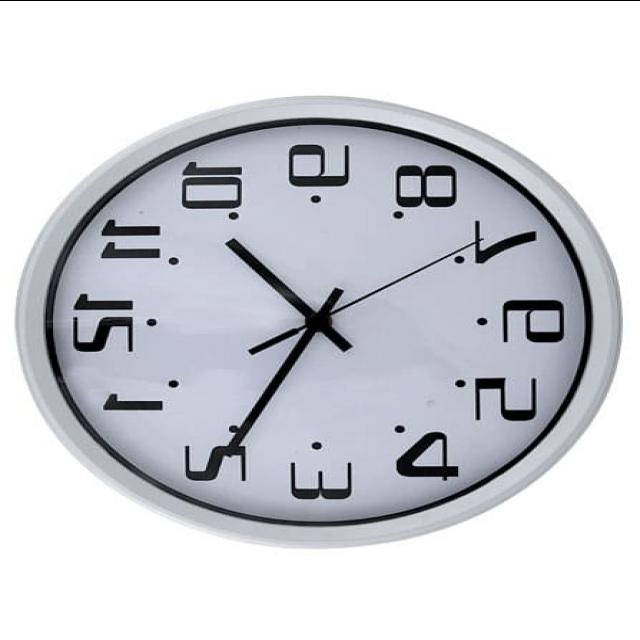clock: (0, 73, 630, 541)
